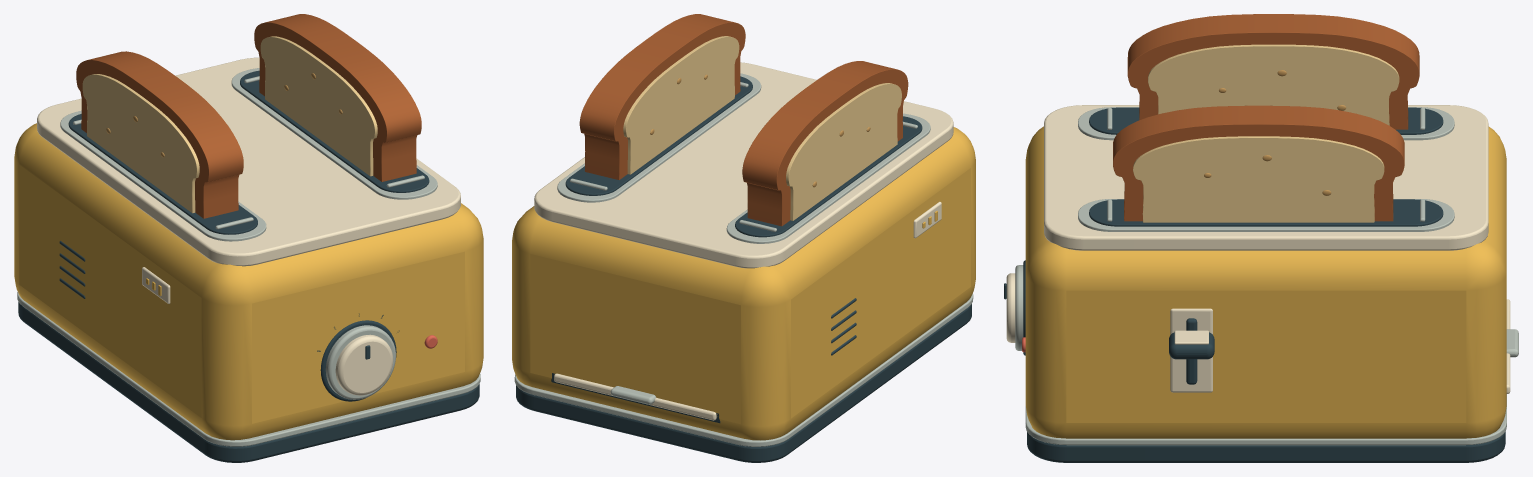
File: toast-malone.glb
3 renders of one model, left to right at view 1: azimuth 30°, elevation 25°; view 2: azimuth 150°, elevation 25°; view 3: azimuth 270°, elevation 25°, orthographic. The views are drawn at different scales.
Visible parts, largest first — view 1: toast-malone_DD_Butter, toast-malone_DD_Cream, toast-malone_DD_Crust, toast-malone_DD_Bread, toast-malone_DD_DeepInk, toast-malone_DD_Metal; view 2: toast-malone_DD_Butter, toast-malone_DD_Cream, toast-malone_DD_Crust, toast-malone_DD_Bread, toast-malone_DD_DeepInk, toast-malone_DD_Metal; view 3: toast-malone_DD_Butter, toast-malone_DD_Bread, toast-malone_DD_Cream, toast-malone_DD_Crust, toast-malone_DD_DeepInk, toast-malone_DD_Metal.
Part boxes in pixels (<box>): toast-malone_DD_Butter: <box>14,123,483,440</box>; toast-malone_DD_Cream: <box>37,57,460,395</box>; toast-malone_DD_Crust: <box>76,14,421,218</box>; toast-malone_DD_Bread: <box>82,36,377,213</box>; toast-malone_DD_DeepInk: <box>18,70,479,462</box>; toast-malone_DD_Metal: <box>17,68,480,446</box>; toast-malone_DD_Butter: <box>512,127,975,440</box>; toast-malone_DD_Cream: <box>534,62,953,420</box>; toast-malone_DD_Crust: <box>579,14,908,226</box>; toast-malone_DD_Bread: <box>623,36,901,220</box>; toast-malone_DD_DeepInk: <box>516,76,971,462</box>; toast-malone_DD_Metal: <box>514,73,973,446</box>; toast-malone_DD_Butter: <box>1025,126,1506,438</box>; toast-malone_DD_Bread: <box>1133,44,1399,222</box>; toast-malone_DD_Cream: <box>1006,105,1510,393</box>; toast-malone_DD_Crust: <box>1113,14,1419,221</box>; toast-malone_DD_DeepInk: <box>1004,107,1505,462</box>; toast-malone_DD_Metal: <box>1015,107,1518,445</box>.
Size of the model in its own units: 1.89 by 1.67 by 2.42.
